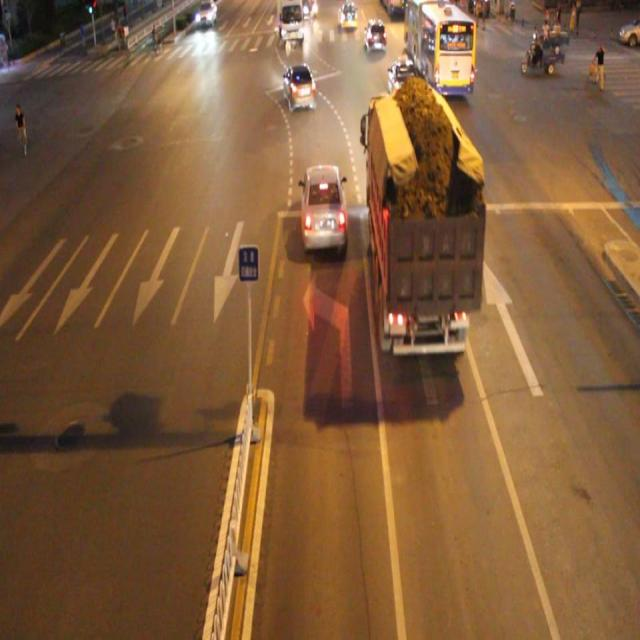bus: (369, 96, 474, 354)
car: (302, 165, 347, 250), (388, 59, 422, 106), (284, 64, 316, 111)
